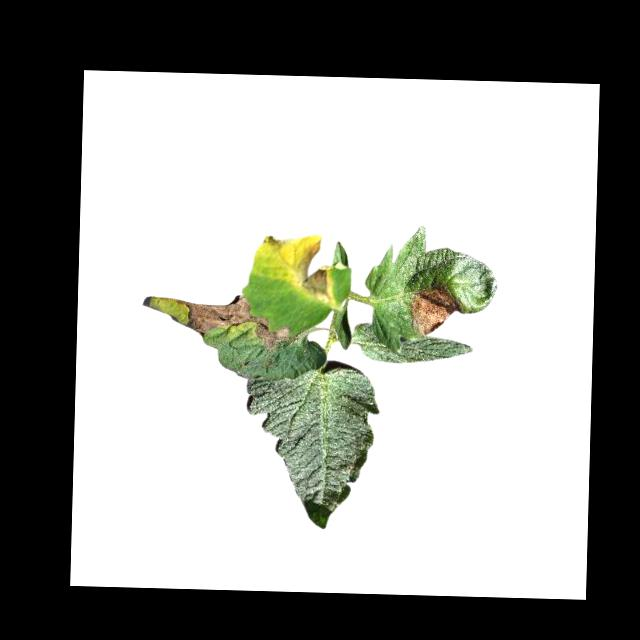Late_blight: (174, 293, 298, 350), (291, 233, 336, 306), (409, 284, 462, 335), (254, 232, 294, 258)
healthy: (242, 365, 380, 530), (351, 322, 476, 367)
